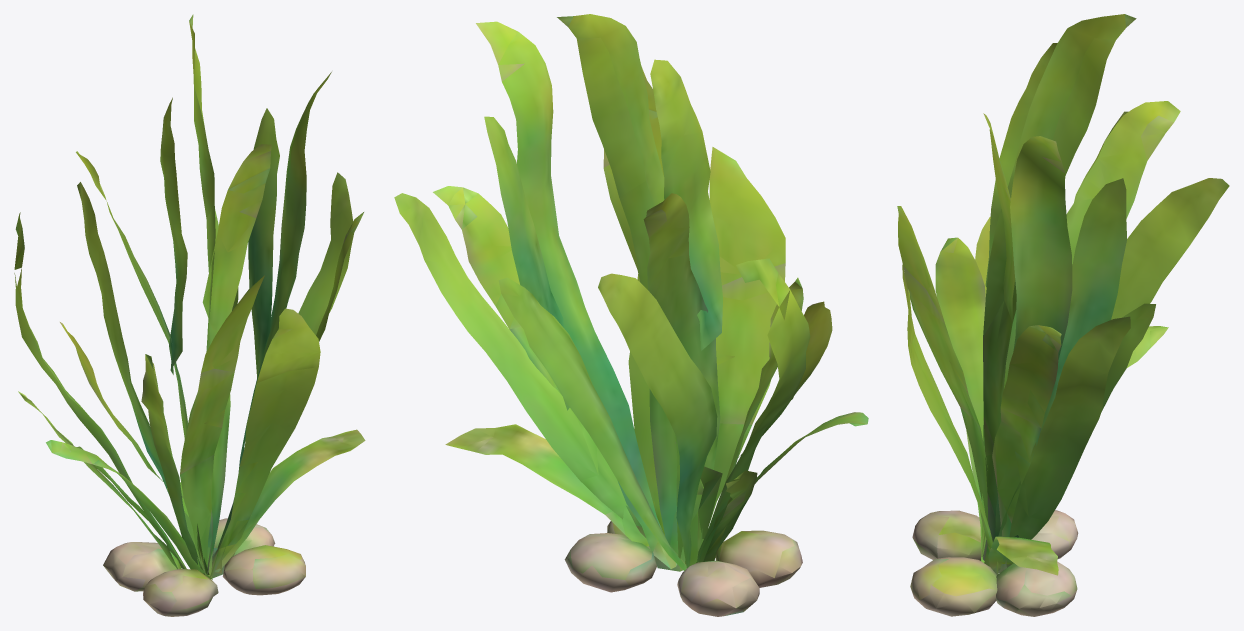
The model's file is alga_0_1500.glb.
3 views of the same model, side by side, from view 1: azimuth 30°, elevation 25°; view 2: azimuth 150°, elevation 25°; view 3: azimuth 270°, elevation 25° (orthographic). The views are drawn at different scales.
Visible parts, largest first — view 1: alga_0_malla; view 2: alga_0_malla; view 3: alga_0_malla.
Part boxes in pixels (left/top/right/bottom): alga_0_malla: left=14, top=14, right=365, bottom=616; alga_0_malla: left=394, top=14, right=868, bottom=616; alga_0_malla: left=897, top=14, right=1229, bottom=616.
Size of the model in its own units: 0.1782 by 0.2541 by 0.1293.
Materials: 1 (1 with a texture image).
